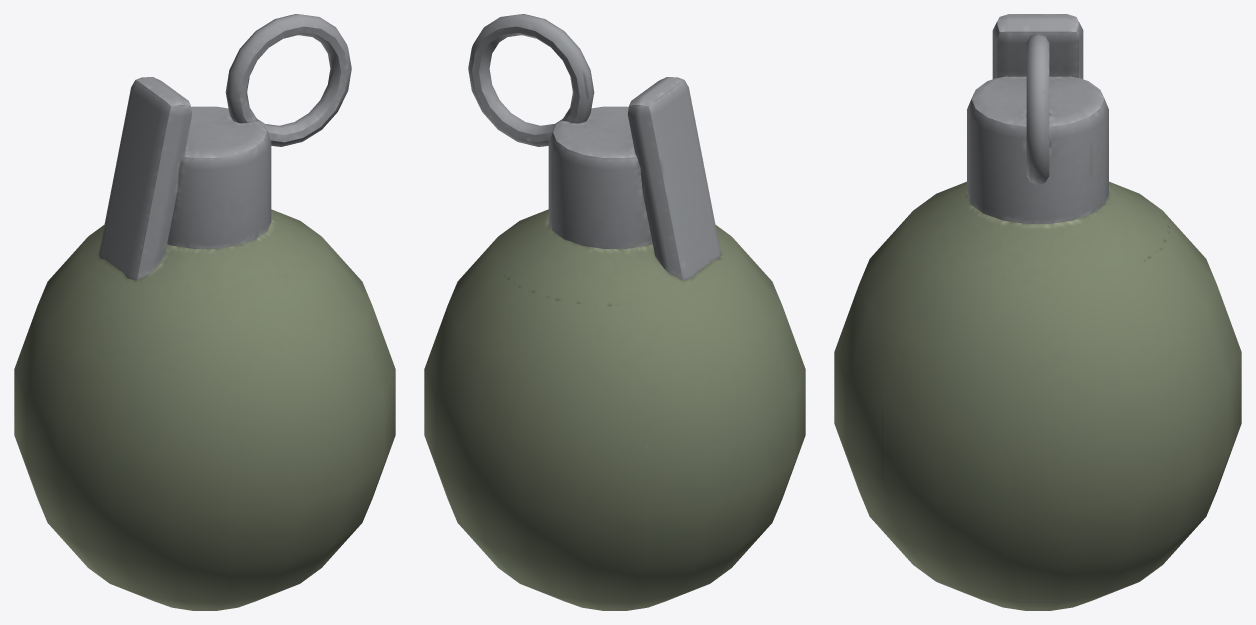
3 views of the same model, side by side, from view 1: azimuth 30°, elevation 25°; view 2: azimuth 150°, elevation 25°; view 3: azimuth 270°, elevation 25° (orthographic). The views are drawn at different scales.
Visible parts, largest first — view 1: he; view 2: he; view 3: he.
Part boxes in pixels (<box>): he: <box>14,14,395,610</box>; he: <box>424,14,805,610</box>; he: <box>834,14,1241,610</box>.
Bounding box in the file's own units: 0.0621 × 0.1018 × 0.063.
